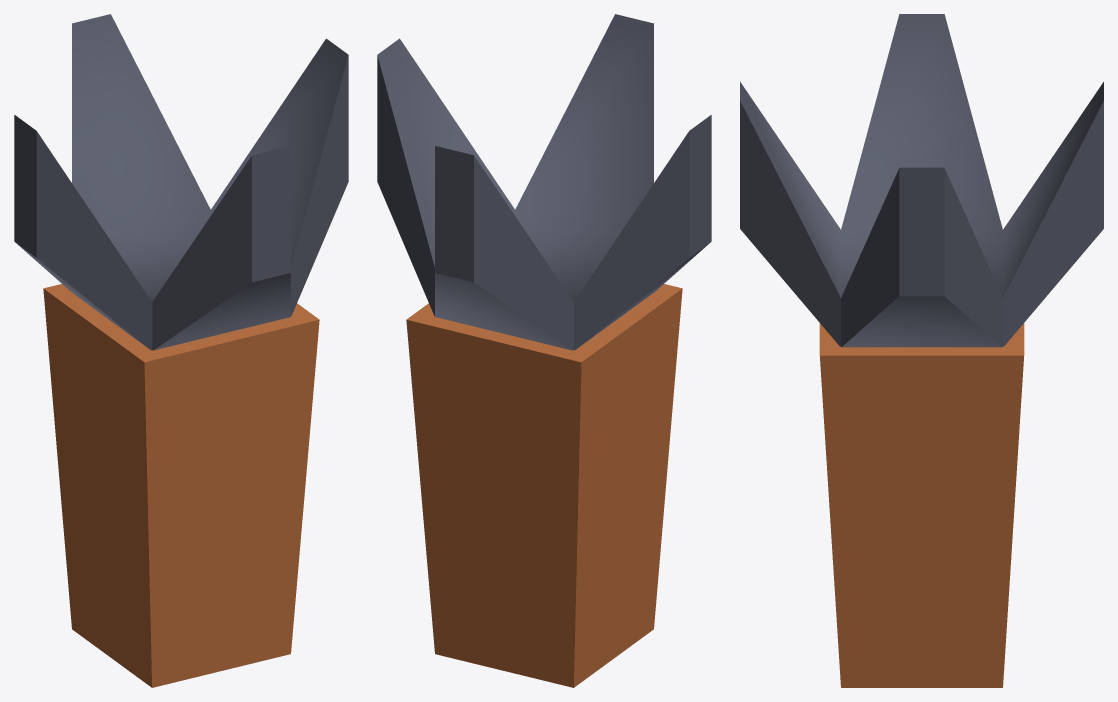
Rendered from Torch.fbx.
3 views of the same model, side by side, from view 1: azimuth 30°, elevation 25°; view 2: azimuth 150°, elevation 25°; view 3: azimuth 270°, elevation 25° (orthographic).
Parts seen in each view (by area): view 1: pCube83, pCube84; view 2: pCube83, pCube84; view 3: pCube84, pCube83.
Boxes of the visible parts, x1,y1,x2,y2 form: pCube83: [43, 284, 319, 687]; pCube84: [14, 14, 348, 350]; pCube83: [406, 284, 682, 687]; pCube84: [377, 14, 711, 350]; pCube84: [740, 14, 1103, 347]; pCube83: [819, 323, 1024, 687].
Bounding box in the file's own units: 0.9666 × 1.65 × 0.9666.
